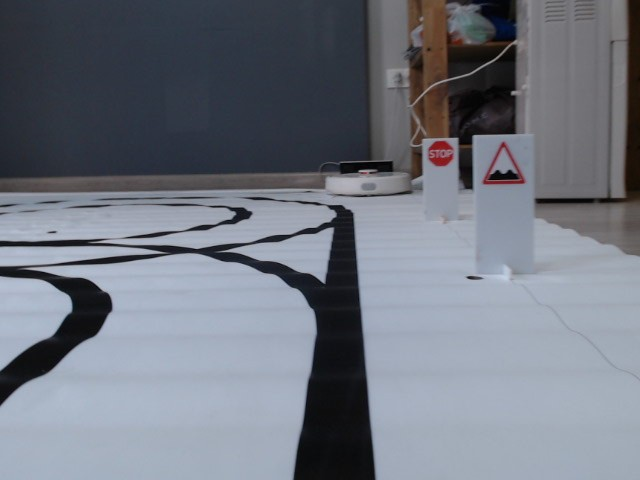Nerov: (482, 139, 527, 186)
Stop: (427, 139, 454, 166)
